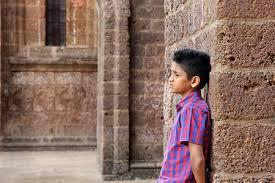Human: (155, 41, 222, 183)
